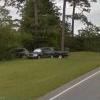Tree: (5, 0, 100, 42)
